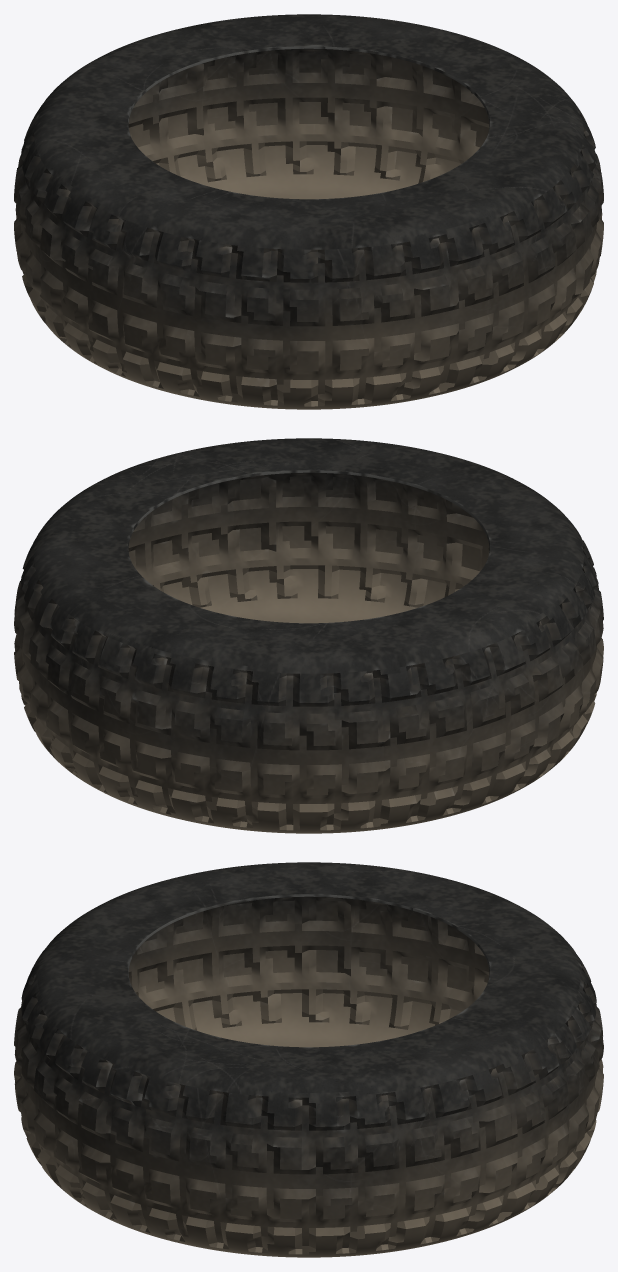
Rendered from SM_Tire_Body.fbx.
3 views of the same model, one above another, from view 1: azimuth 30°, elevation 25°; view 2: azimuth 150°, elevation 25°; view 3: azimuth 270°, elevation 25° (orthographic).
Parts seen in each view (by area): view 1: Tire_Body; view 2: Tire_Body; view 3: Tire_Body.
Boxes of the visible parts, x1,y1,x2,y2 form: Tire_Body: [14, 14, 603, 409]; Tire_Body: [14, 438, 603, 833]; Tire_Body: [14, 862, 603, 1257].
Bounding box in the file's own units: 0.6589 × 0.6589 × 0.2205.
1 material, 1 textured.
